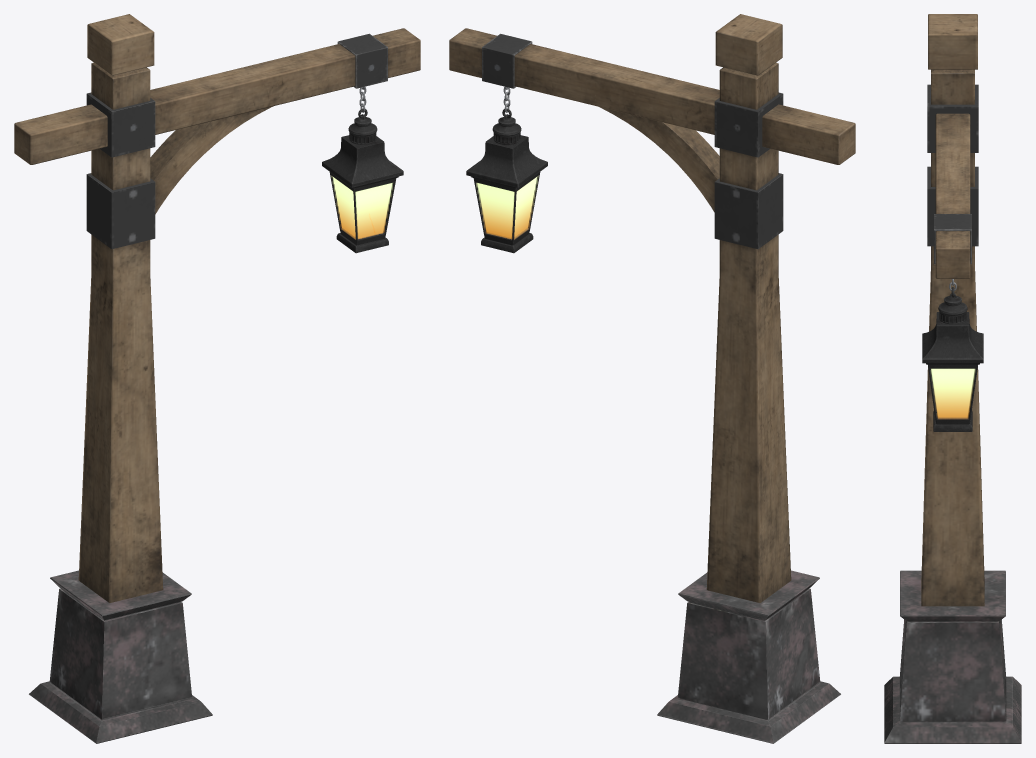
The model's file is lantern.gltf.
3 renders of one model, left to right at view 1: azimuth 30°, elevation 25°; view 2: azimuth 150°, elevation 25°; view 3: azimuth 270°, elevation 25°, orthographic.
Parts seen in each view (by area): view 1: LanternPole_Body, LanternPole_Lantern; view 2: LanternPole_Body, LanternPole_Lantern; view 3: LanternPole_Body, LanternPole_Lantern.
Part boxes in pixels (bbox=[...]): LanternPole_Body: bbox=[14, 14, 420, 743]; LanternPole_Lantern: bbox=[322, 108, 403, 253]; LanternPole_Body: bbox=[449, 14, 855, 743]; LanternPole_Lantern: bbox=[466, 108, 547, 253]; LanternPole_Body: bbox=[884, 14, 1021, 743]; LanternPole_Lantern: bbox=[922, 287, 983, 431].
Bounding box in the file's own units: 15.49 × 25.66 × 4.63.
1 material, 1 textured.
